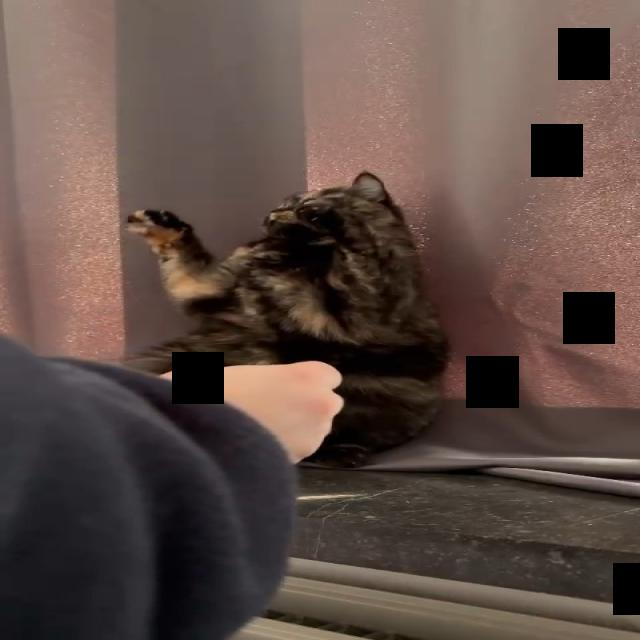authorized: (119, 170, 452, 468)
